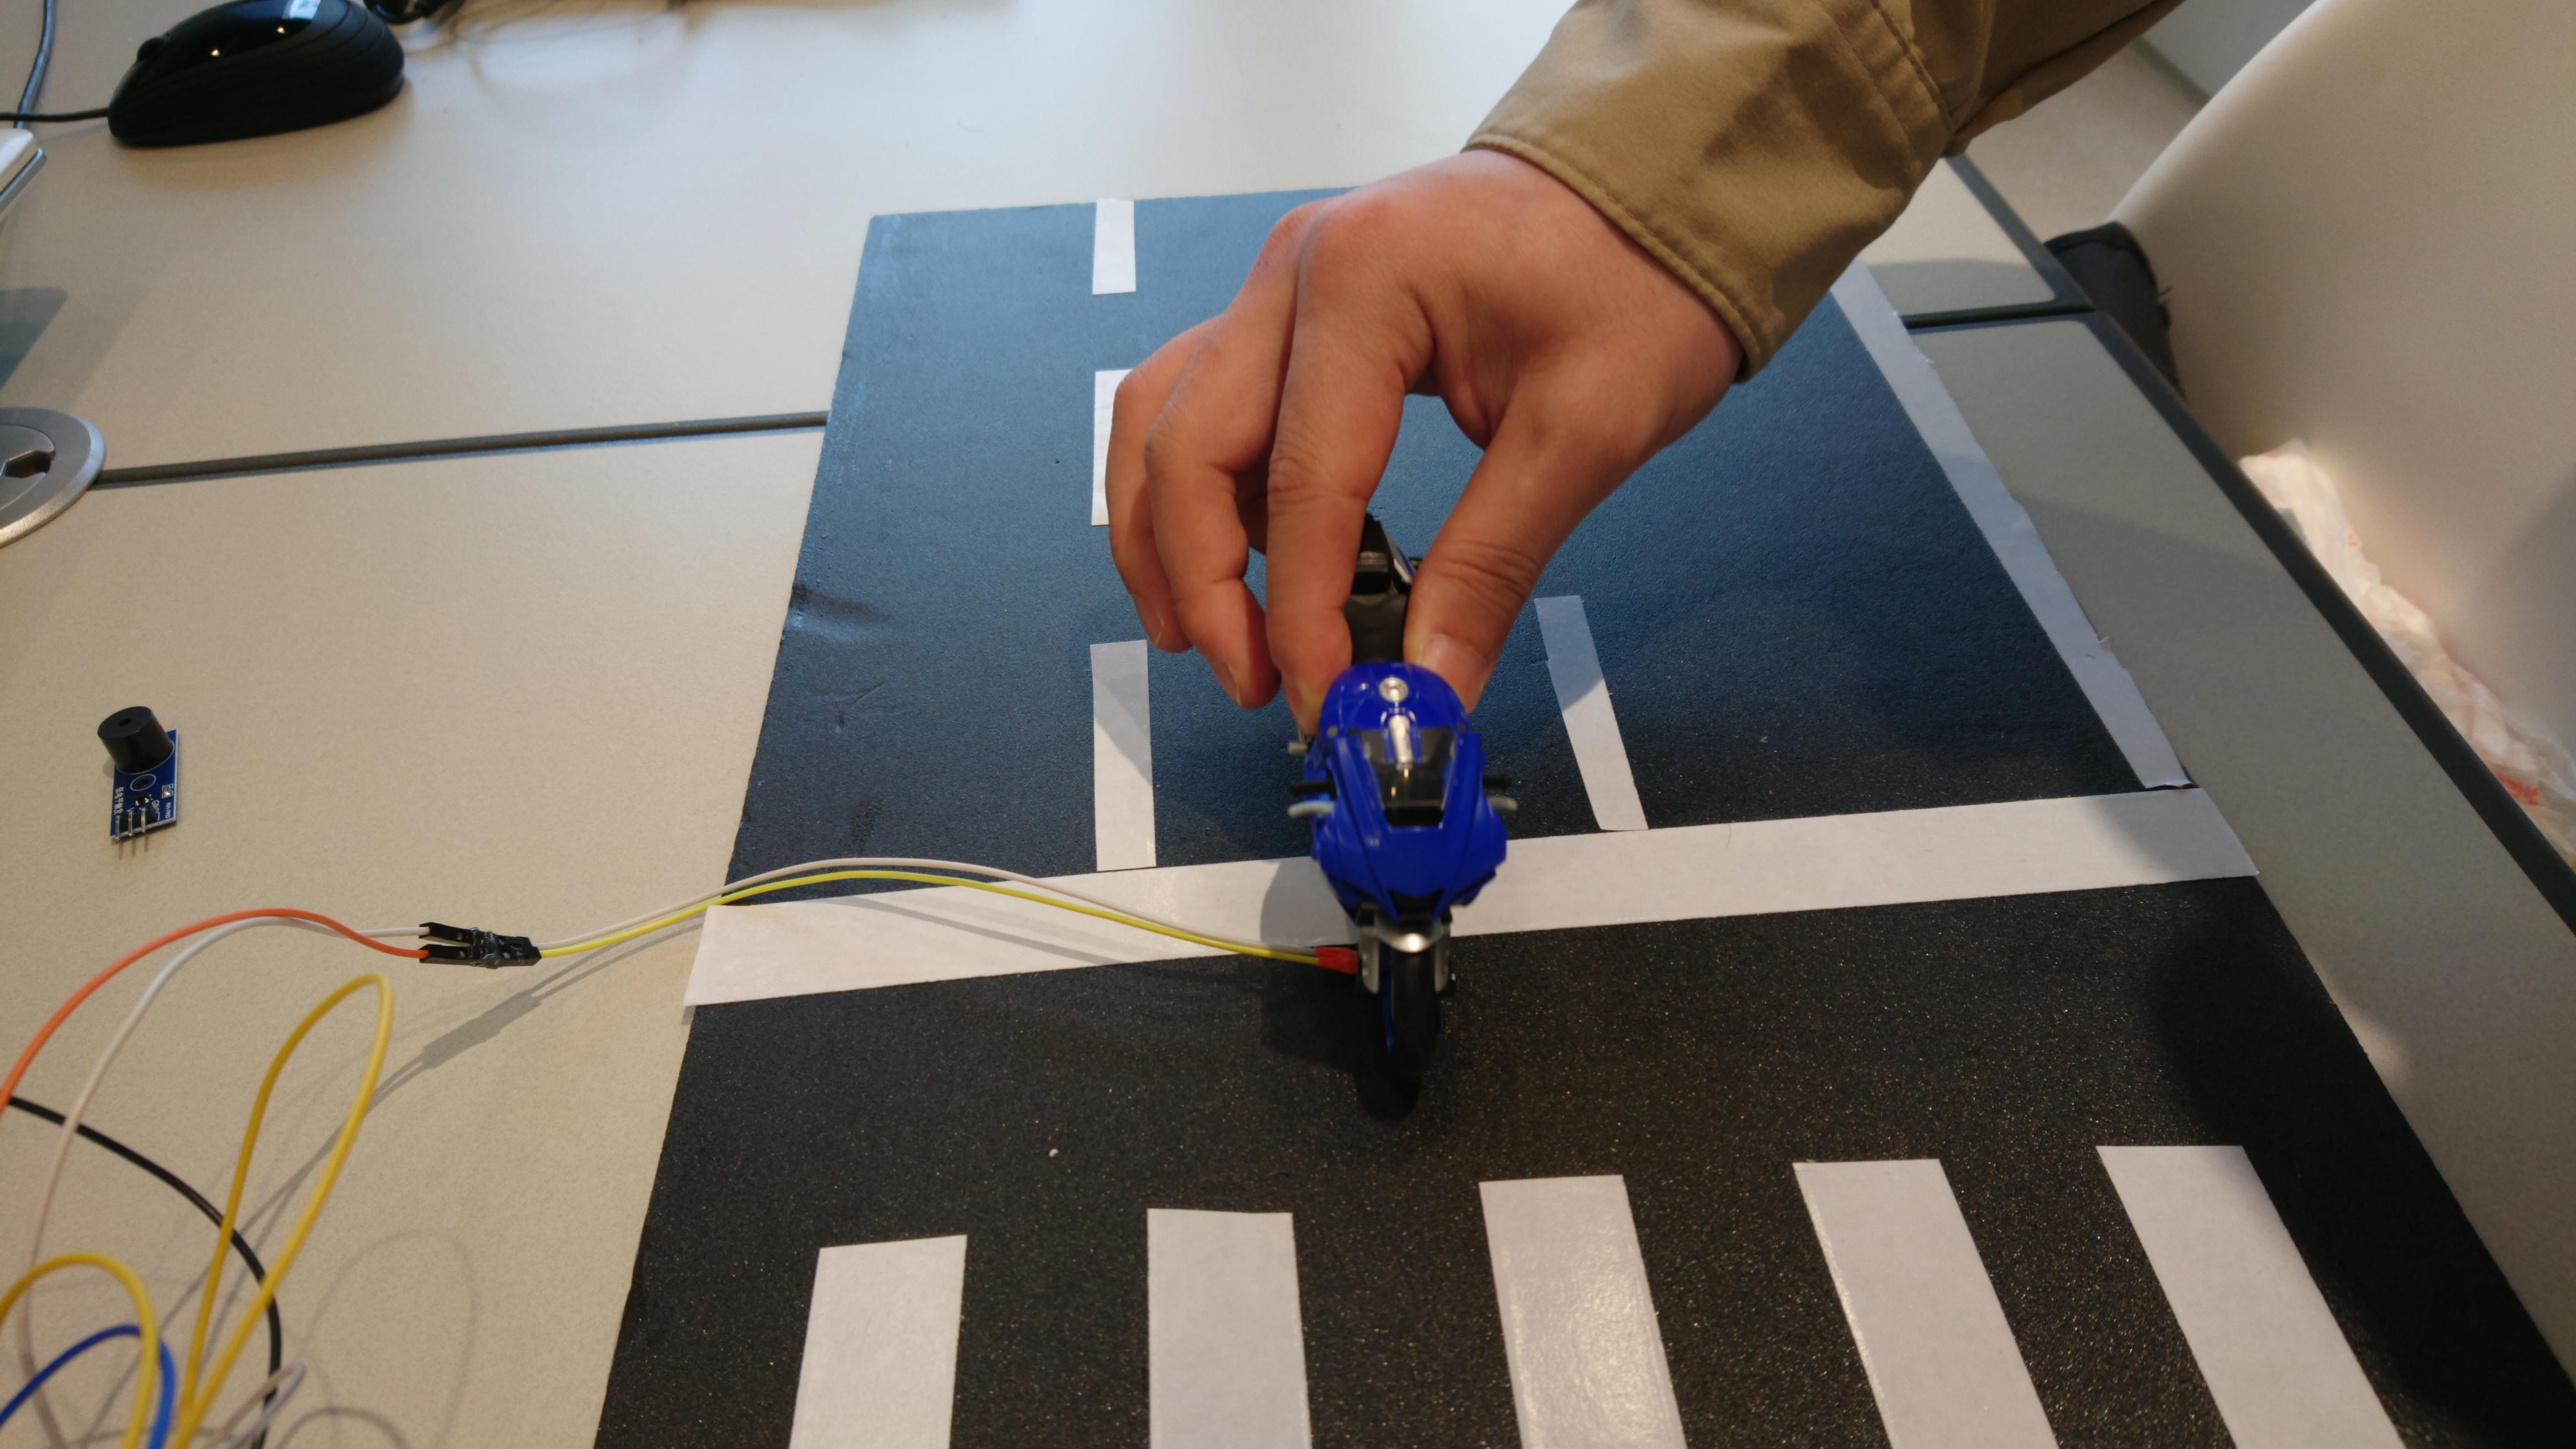Motorcycle: (1274, 506, 1523, 1017)
